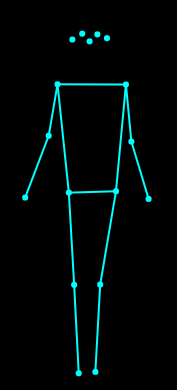mountain: (19, 23, 155, 379)
